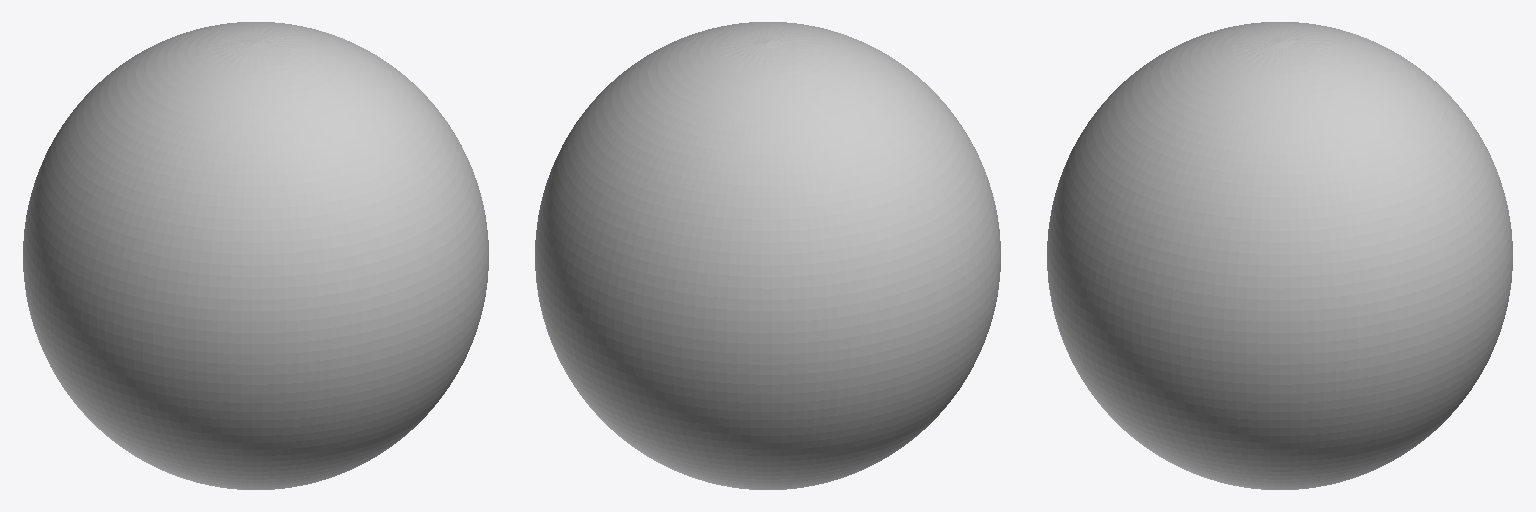
Rendered from sphere_smooth.obj.
The picture shows the model from 3 angles: view 1: azimuth 30°, elevation 25°; view 2: azimuth 150°, elevation 25°; view 3: azimuth 270°, elevation 25°; orthographic projection.
Visible parts, largest first — view 1: Sphere; view 2: Sphere; view 3: Sphere.
Part boxes in pixels (x1,y1,x2,y2): Sphere: (23, 22, 488, 489); Sphere: (535, 22, 1000, 489); Sphere: (1047, 22, 1512, 489).
Size of the model in its own units: 2.96 by 2.99 by 2.96.